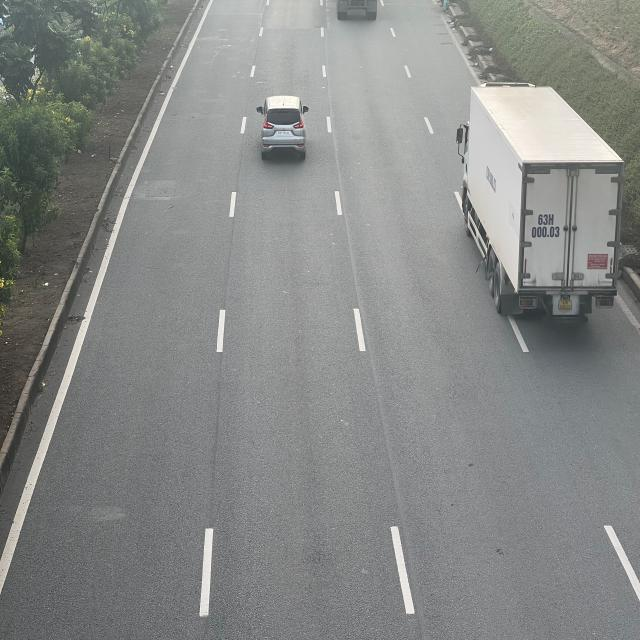car: (258, 98, 309, 162)
truck: (459, 87, 625, 333)
